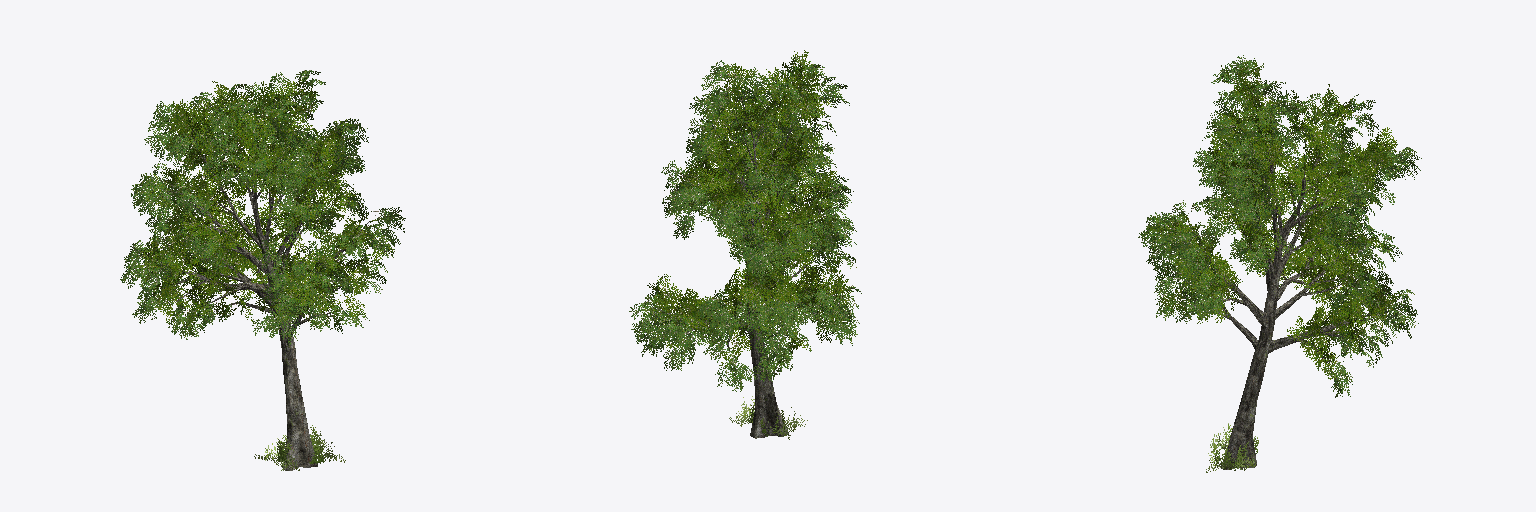
The picture shows the model from 3 angles: view 1: azimuth 30°, elevation 25°; view 2: azimuth 150°, elevation 25°; view 3: azimuth 270°, elevation 25°; orthographic projection.
Visible parts, largest first — view 1: polySurface1_polySurface1Shape.001, polySurface478_polySurface478Shape.001, polySurface1153_polySurfaceShape1153.001, r08tre00_polySurface109_r08tre00_polySurface109Shape.001; view 2: polySurface478_polySurface478Shape.001, polySurface1_polySurface1Shape.001, polySurface1153_polySurfaceShape1153.001, r08tre00_polySurface109_r08tre00_polySurface109Shape.001; view 3: polySurface1_polySurface1Shape.001, polySurface478_polySurface478Shape.001, polySurface1153_polySurfaceShape1153.001, r08tre00_polySurface109_r08tre00_polySurface109Shape.001.
Part boxes in pixels (x1,y1,x2,y2): polySurface1_polySurface1Shape.001: (136,78,393,331); polySurface478_polySurface478Shape.001: (120,70,405,348); polySurface1153_polySurfaceShape1153.001: (152,97,369,470); r08tre00_polySurface109_r08tre00_polySurface109Shape.001: (254,425,345,470); polySurface478_polySurface478Shape.001: (629,56,861,391); polySurface1_polySurface1Shape.001: (641,50,852,371); polySurface1153_polySurfaceShape1153.001: (657,94,823,438); r08tre00_polySurface109_r08tre00_polySurface109Shape.001: (729,396,807,439); polySurface1_polySurface1Shape.001: (1147,58,1400,379); polySurface478_polySurface478Shape.001: (1138,55,1421,397); polySurface1153_polySurfaceShape1153.001: (1183,88,1382,469); r08tre00_polySurface109_r08tre00_polySurface109Shape.001: (1206,423,1258,472).
Size of the model in its own units: 10.7 by 18.3 by 12.16.
3 materials, 3 textured.